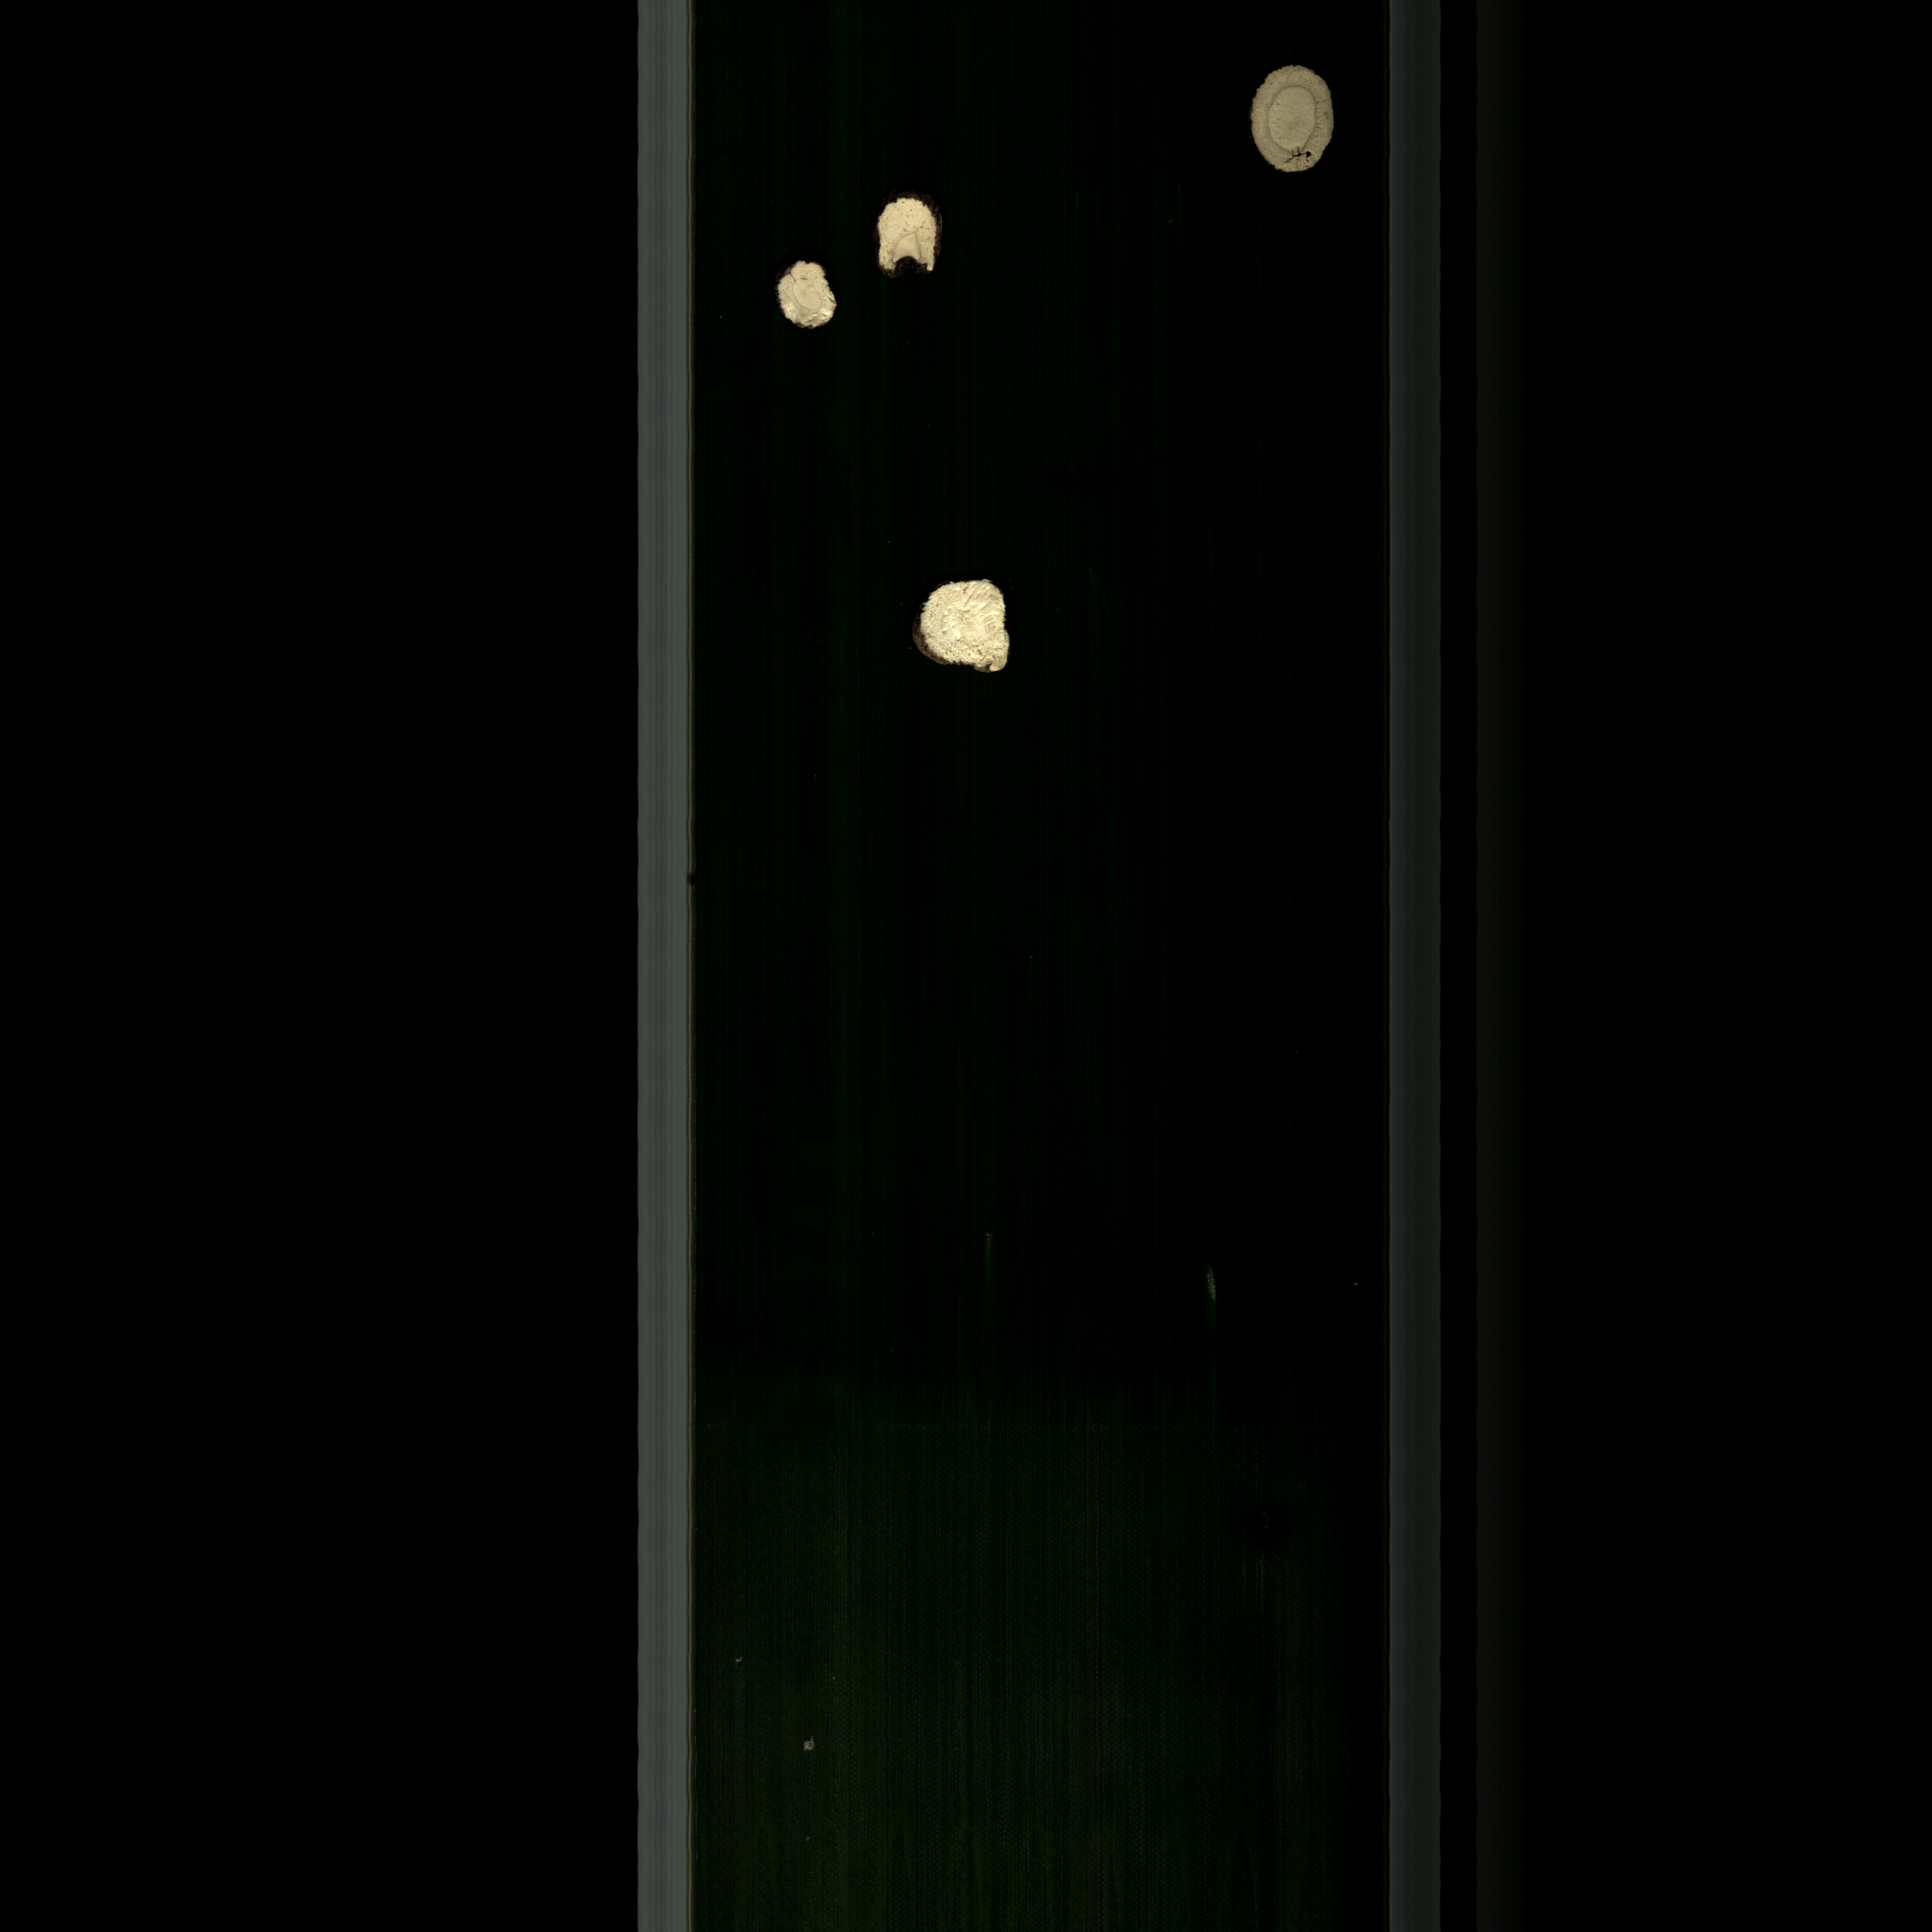debris: (863, 193, 947, 288)
distortion: (908, 568, 1021, 686), (770, 255, 846, 336)
moldy: (1246, 60, 1341, 196)
